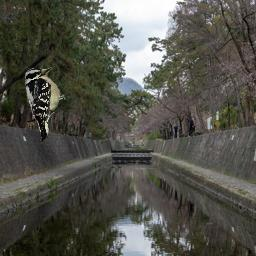Woodpecker: (24, 66, 72, 144)
